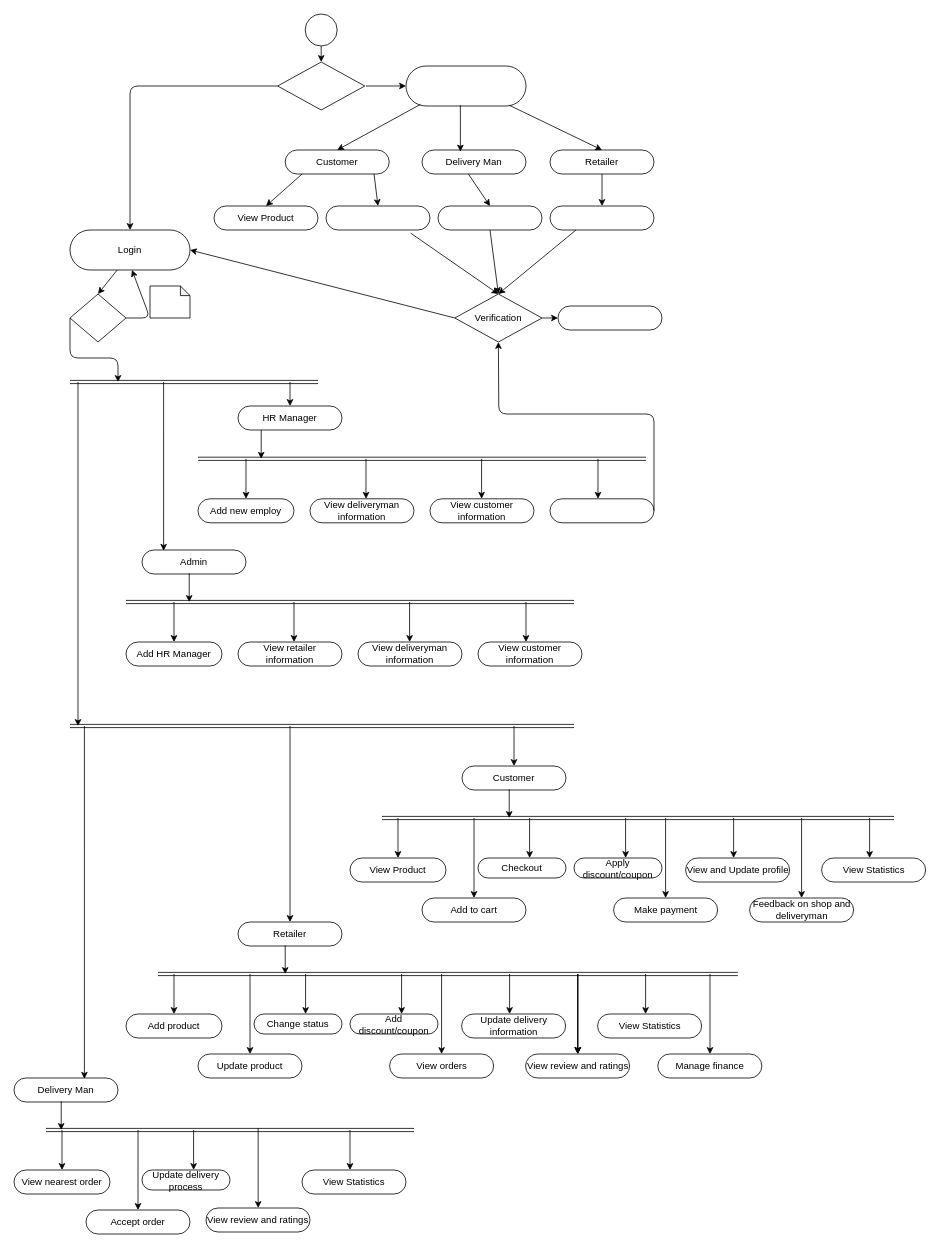
Some shapes in this 940 by 1248 pixel diagram are drawn without their labels. The centre of each missing label's shape, as x and y in pixels:
"invalid" belongs at pixel 169 301.
"Register as customer" belongs at pixel 377 217.
"Register as delivery man" belongs at pixel 489 217.
"Register as retailer" belongs at pixel 601 217.
"Unregistered User" belongs at pixel 465 85.
"User's" belongs at pixel 321 85.
"Verify uname and pass" belongs at pixel 97 317.
"Verify users" belongs at pixel 601 510.
"Waiting for verification" belongs at pixel 609 317.
